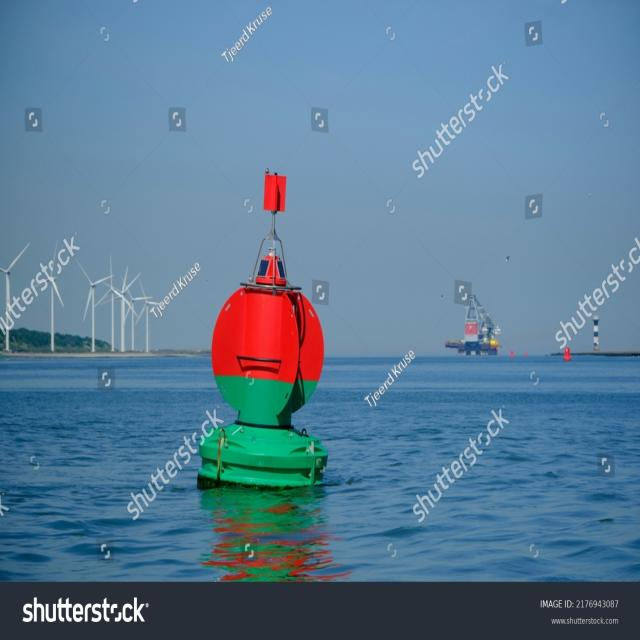marque: (172, 141, 359, 519)
